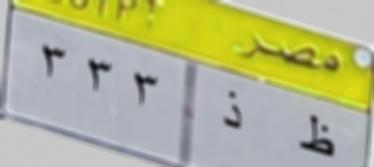3: (37, 37, 70, 85), (131, 71, 163, 116), (86, 52, 114, 100)
Thaa: (298, 105, 336, 164)
zaal: (216, 90, 248, 136)
